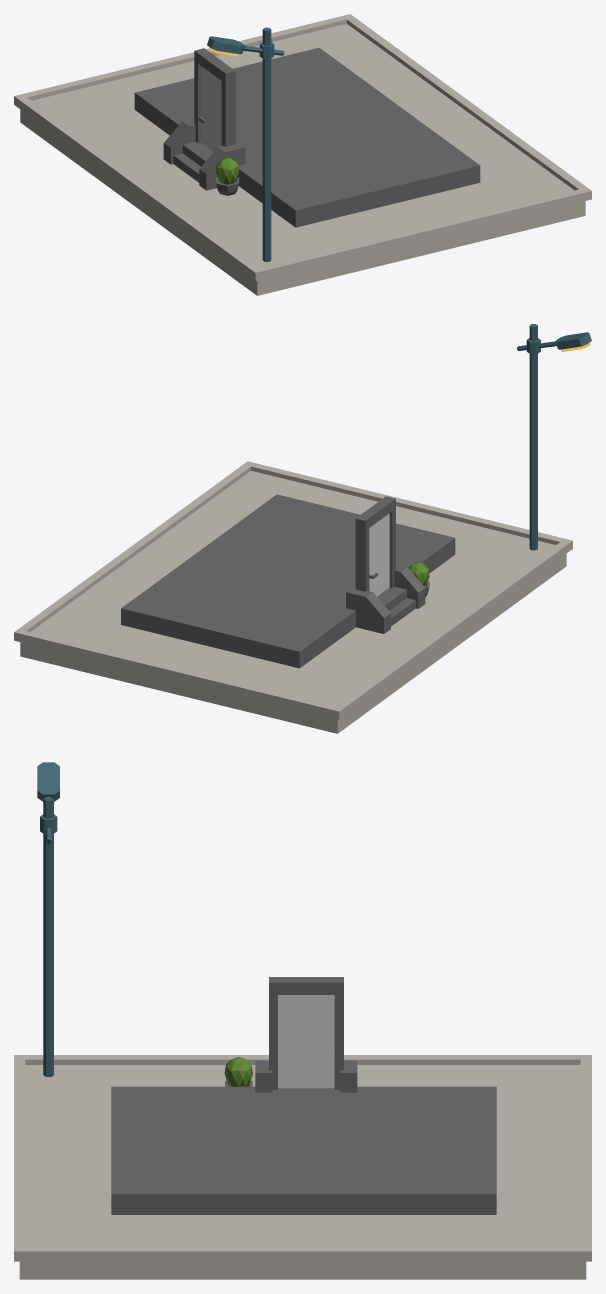
3 renders of one model, top to bottom at view 1: azimuth 30°, elevation 25°; view 2: azimuth 150°, elevation 25°; view 3: azimuth 270°, elevation 25°, orthographic. The views are drawn at different scales.
Parts seen in each view (by area): view 1: base; view 2: base; view 3: base.
Part boxes in pixels (bbox=[...]): base: bbox=[14, 14, 591, 295]; base: bbox=[14, 324, 591, 733]; base: bbox=[14, 762, 591, 1279].
Size of the model in its own units: 8.97 by 5.97 by 10.2.
